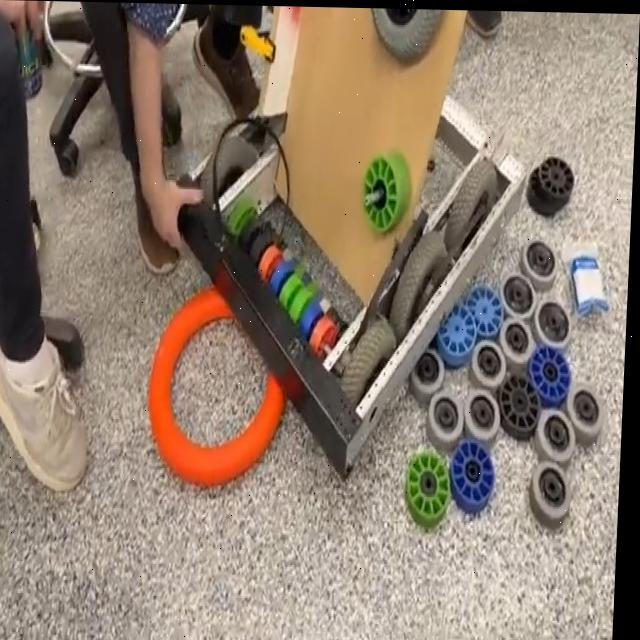note: (146, 277, 298, 493)
